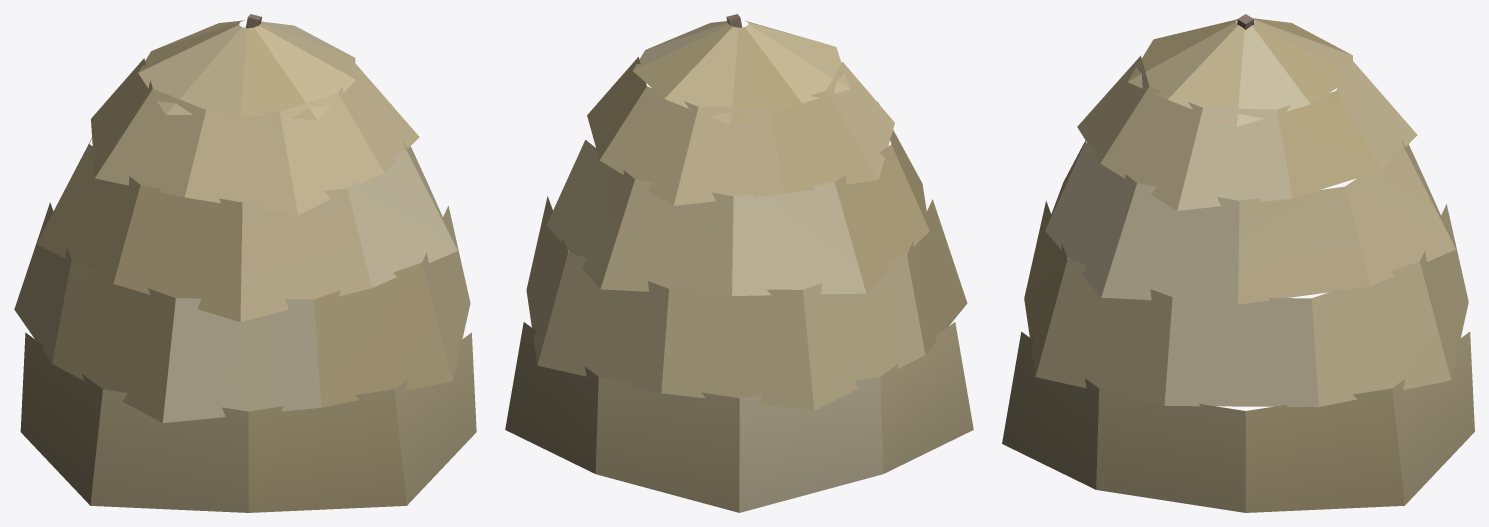
Rendered from haystack.lod1.glb.
3 renders of one model, left to right at view 1: azimuth 30°, elevation 25°; view 2: azimuth 150°, elevation 25°; view 3: azimuth 270°, elevation 25°, orthographic. The views are drawn at different scales.
Bounding box in the file's own units: 1.9 × 1.85 × 1.93.
